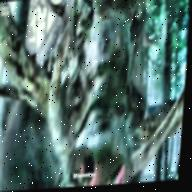boar: (3, 0, 179, 191)
